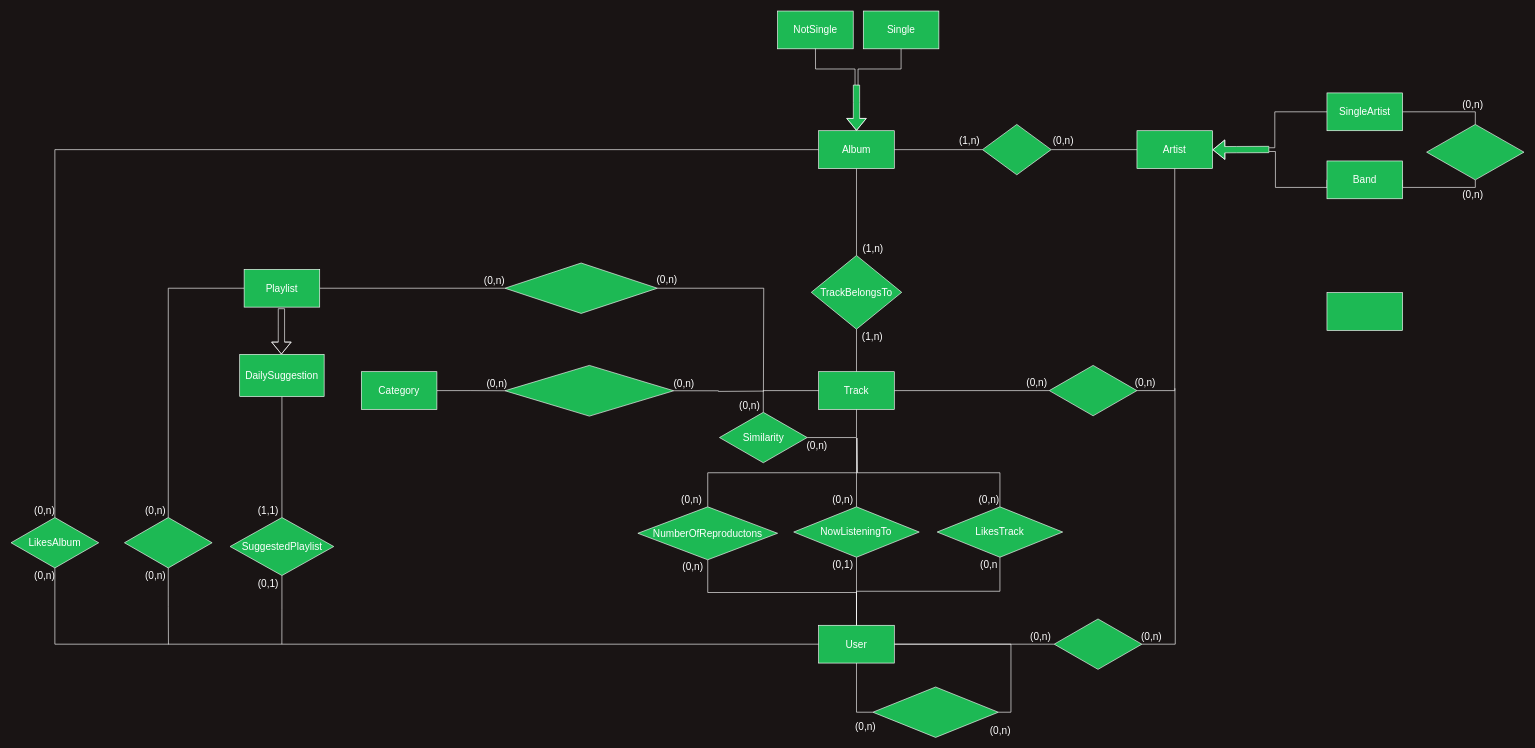
The diagram is 1535 pixels wide and 748 high, and some of its shapes have lost their labels. Here are the shapes that lost their labels. From the top down, the box of each, then its label:
(982, 124, 1051, 175): Making
(1426, 124, 1524, 180): ArtistBelongsTo
(504, 262, 657, 313): TrackBelongsToPlaylist
(1326, 292, 1403, 330): Revenue
(504, 365, 674, 416): TrackBelongsToCategory
(1049, 365, 1137, 416): Features
(124, 517, 212, 568): LikesPlaylist
(1054, 618, 1142, 669): FollowsArtist
(872, 686, 998, 737): FollowsUser
